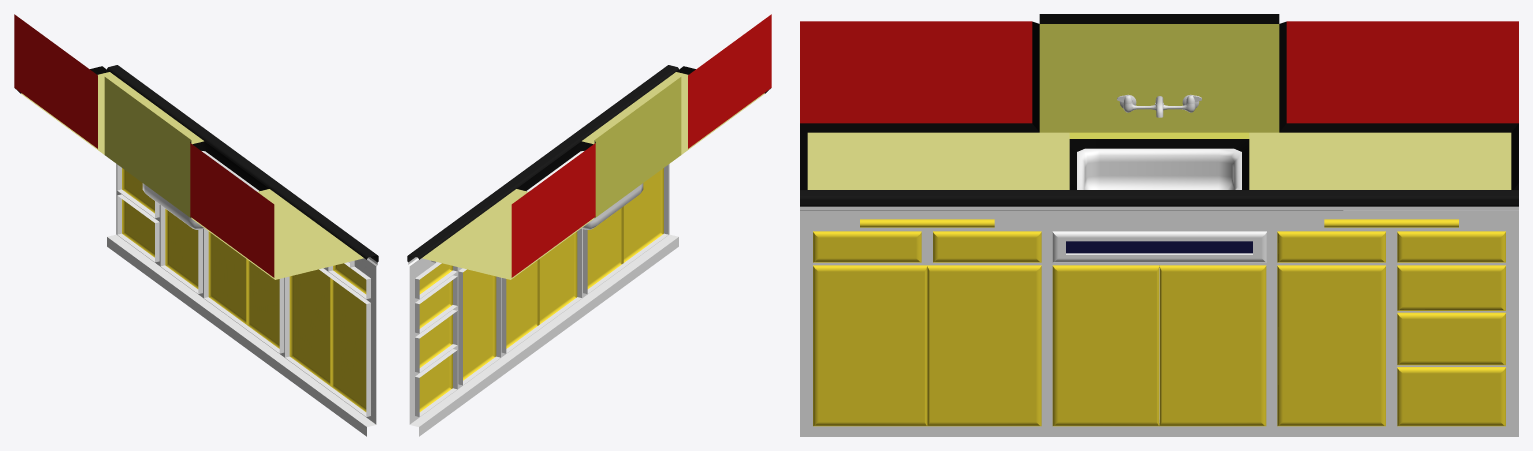
File: Counter_Kitchen.fbx
3 views of the same model, side by side, from view 1: azimuth 30°, elevation 25°; view 2: azimuth 150°, elevation 25°; view 3: azimuth 270°, elevation 25° (orthographic). The views are drawn at different scales.
Visible parts, largest first — view 1: Counter, Door2, door1, Door4, Door3, Door5, drawer7, drawer6, Drawer1; view 2: Counter, Door5, Door3, door1, Door4, Door2, drawer7, drawer6, Drawer5, Drawer4; view 3: Counter, Door2, door1, Door5, Door4, Door3, Vent, drawer7, drawer6, Drawer5, Drawer2, Drawer1 (+5 smaller).
Boxes of the visible parts, x1,y1,x2,y2 form: Counter: (14,14,378,436); Door2: (289,269,330,385); door1: (330,278,366,411); Door4: (208,231,246,324); Door3: (246,259,279,348); Door5: (165,209,198,288); drawer7: (122,199,154,257); drawer6: (122,168,154,213); Drawer1: (333,263,366,294); Counter: (407,14,771,436); Door5: (463,269,496,380); Door3: (539,231,577,324); door1: (623,168,663,262); Door4: (506,259,539,348); Door2: (587,206,623,288); drawer7: (419,353,452,411); drawer6: (419,314,452,367); Drawer5: (419,280,452,328); Drawer4: (419,263,452,294); Counter: (800,14,1518,436); Door2: (927,265,1041,426); door1: (813,265,927,426); Door5: (1277,265,1385,426); Door4: (1159,265,1266,426); Door3: (1052,265,1159,426); Vent: (1052,231,1266,262); drawer7: (1397,367,1505,426); drawer6: (1397,312,1505,365); Drawer5: (1397,265,1505,310); Drawer2: (933,231,1041,262); Drawer1: (813,231,921,262).
Bounding box in the file's own units: 57 × 133 × 240.
